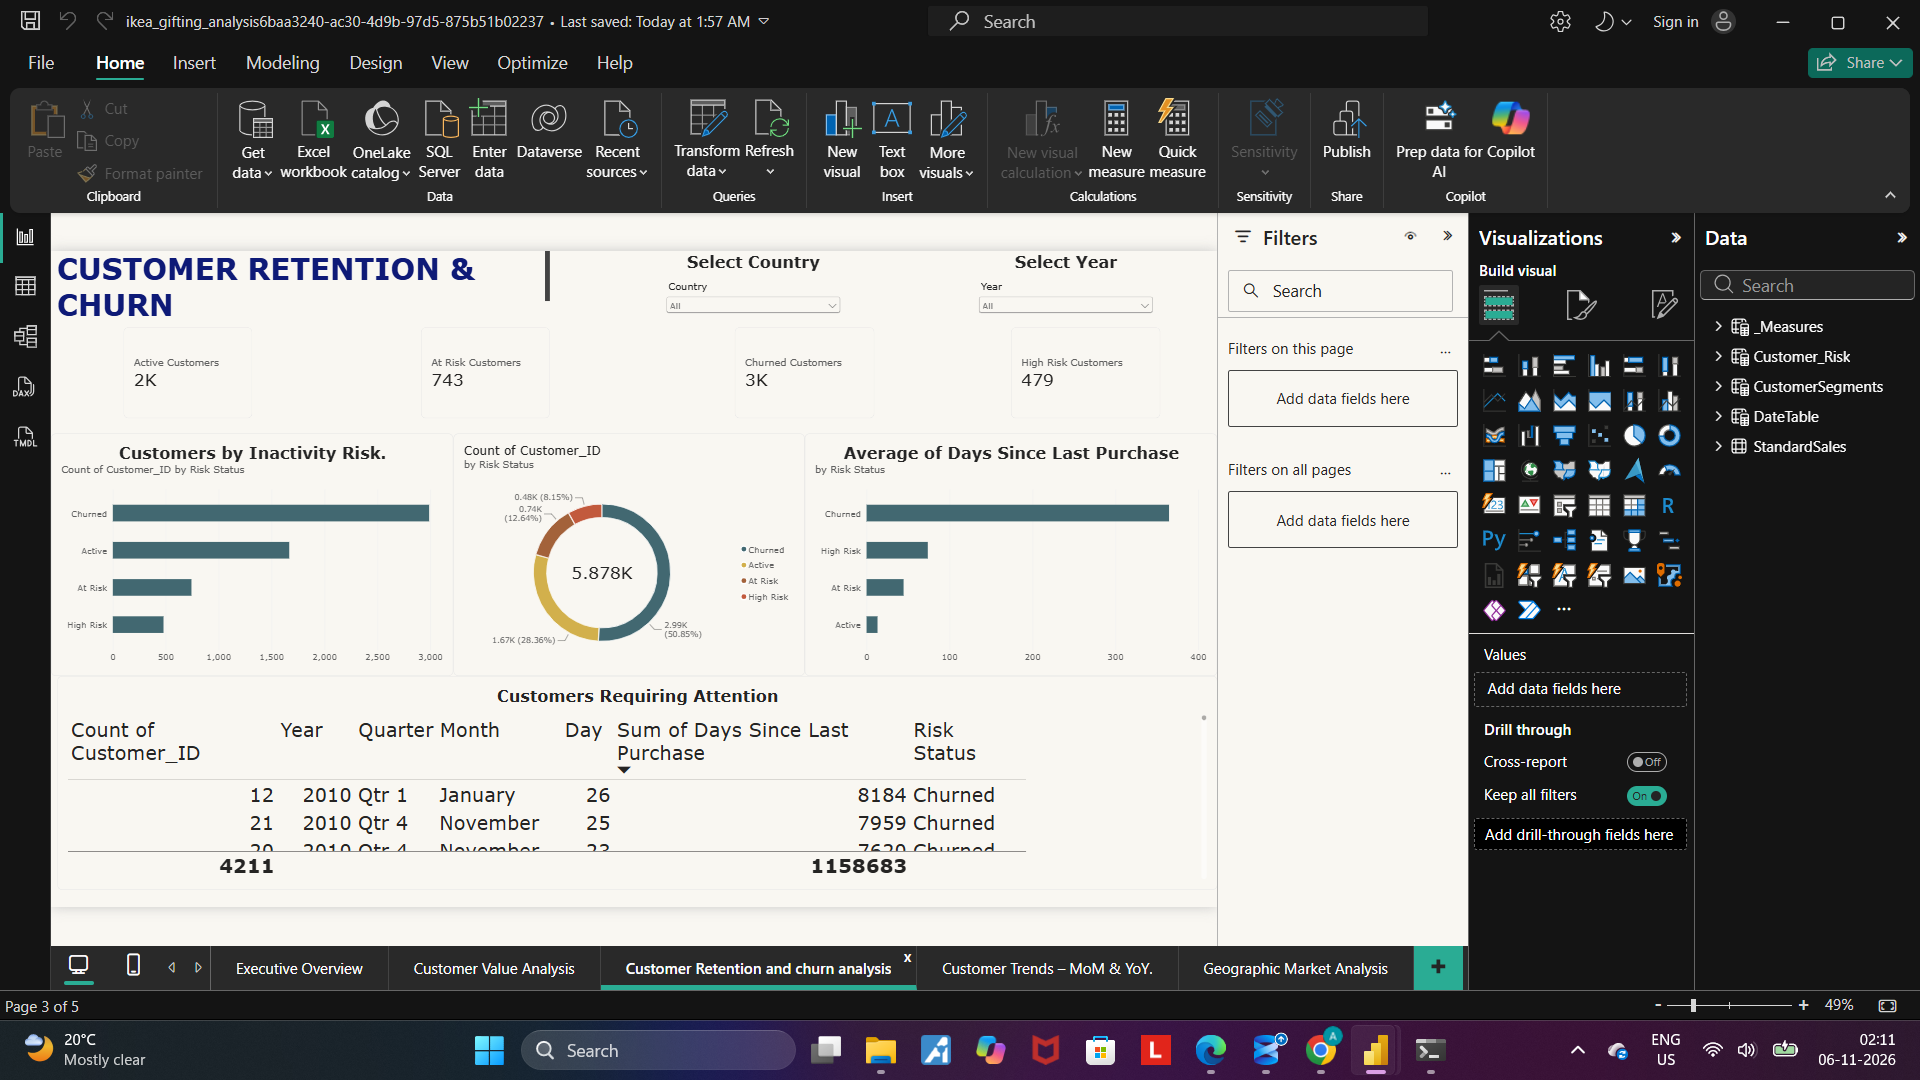

Layout of this report page (visuals, bound fields, positions):
{"tool":"powerbi","page":{"name":"Customer Retention and churn analysis","canvas":[1920,1080],"ordinal":2},"visuals":[{"type":"textbox","box":[10.3,0,811,109.1],"z":0},{"type":"cardVisual","fields":{"Data":["_Measures.Active Customers"]},"box":[119.4,125.6,212,150.3],"z":1},{"type":"cardVisual","fields":{"Data":["_Measures.At Risk Customers"]},"box":[609.3,125.6,212,150.3],"z":2},{"type":"cardVisual","fields":{"Data":["_Measures.Churned Customers"]},"box":[1125.9,125.6,230.5,150.3],"z":3},{"type":"cardVisual","fields":{"Data":["_Measures.High Risk Customers"]},"box":[1580.8,125.6,247,150.3],"z":4},{"type":"donutChart","fields":{"Category":["Customer_Risk.Risk Status"],"Y":["CountNonNull(Customer_Risk.Customer_ID)"]},"box":[662.8,300.5,578.4,399.3],"z":5},{"type":"clusteredBarChart","title":"Customers by Inactivity Risk.","fields":{"Category":["Customer_Risk.Risk Status"],"Y":["CountNonNull(Customer_Risk.Customer_ID)"]},"box":[0,300.5,662.8,399.3],"z":6},{"type":"tableEx","title":"Customers Requiring Attention","fields":{"Values":["CountNonNull(Customer_Risk.Customer_ID)","Customer_Risk.Last Purchase Date.Variation.Date Hierarchy.Year","Customer_Risk.Last Purchase Date.Variation.Date Hierarchy.Quarter","Customer_Risk.Last Purchase Date.Variation.Date Hierarchy.Month","Customer_Risk.Last Purchase Date.Variation.Date Hierarchy.Day","Sum(Customer_Risk.Days Since Last Purchase)","Customer_Risk.Risk Status"]},"box":[10.3,699.8,1910.1,352],"z":7},{"type":"clusteredBarChart","fields":{"Category":["Customer_Risk.Risk Status"],"Y":["Avg(Customer_Risk.Days Since Last Purchase)"]},"box":[1241.2,300.5,679.2,399.3],"z":8},{"type":"slicer","title":"Select Country","fields":{"Values":["StandardSales.Country"]},"box":[1008.6,0,296.4,152.3],"z":9},{"type":"slicer","title":"Select Year","fields":{"Values":["StandardSales.Year"]},"box":[1523.2,0,296.4,152.3],"z":10}]}

Visuals, with their boxes on the page's 1920x1080 design canvas (x1, y1, x2, y2). These are canvas units, not pixel positions in the 1920x1080 screenshot, which may show the page scaled, cropped or inside an application window:
textbox: x1=10 y1=0 x2=821 y2=109
cardVisual - _Measures.Active Customers: x1=119 y1=126 x2=331 y2=276
cardVisual - _Measures.At Risk Customers: x1=609 y1=126 x2=821 y2=276
cardVisual - _Measures.Churned Customers: x1=1126 y1=126 x2=1356 y2=276
cardVisual - _Measures.High Risk Customers: x1=1581 y1=126 x2=1828 y2=276
donutChart - Customer_Risk.Risk Status x CountNonNull(Customer_Risk.Customer_ID): x1=663 y1=300 x2=1241 y2=700
"Customers by Inactivity Risk." clusteredBarChart: x1=0 y1=300 x2=663 y2=700
"Customers Requiring Attention" tableEx: x1=10 y1=700 x2=1920 y2=1052
clusteredBarChart - Customer_Risk.Risk Status x Avg(Customer_Risk.Days Since Last Purchase): x1=1241 y1=300 x2=1920 y2=700
"Select Country" slicer: x1=1009 y1=0 x2=1305 y2=152
"Select Year" slicer: x1=1523 y1=0 x2=1820 y2=152
